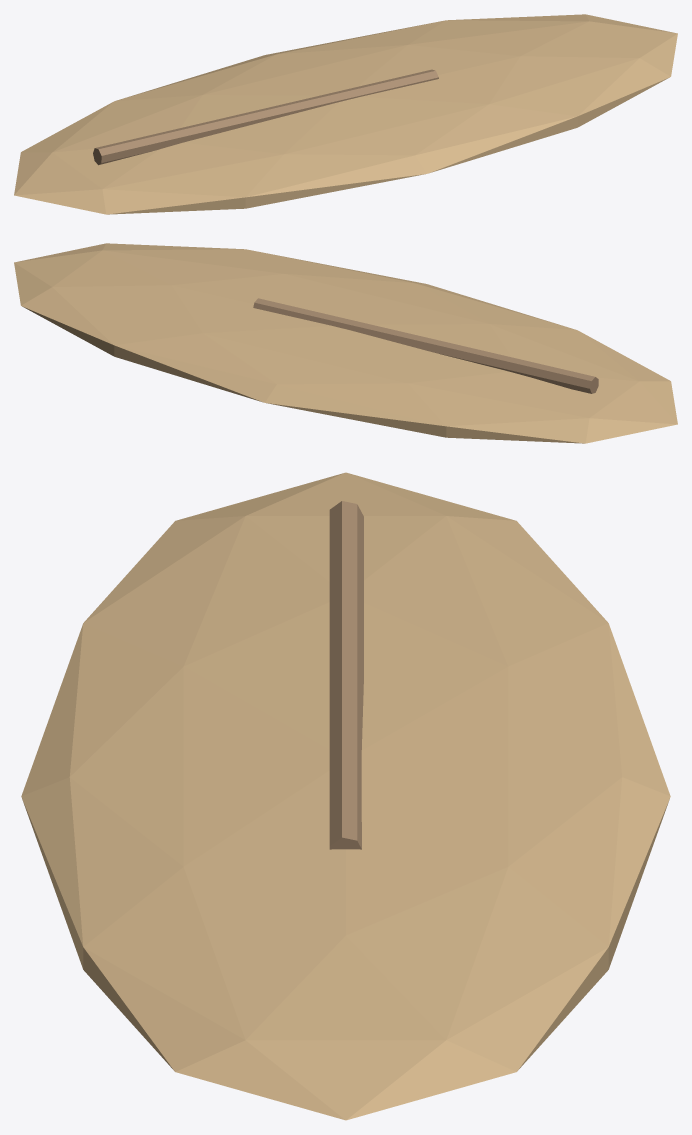
File: fallen_leaf.glb
The picture shows the model from 3 angles, top to bottom: view 1: azimuth 30°, elevation 25°; view 2: azimuth 150°, elevation 25°; view 3: azimuth 270°, elevation 25°; orthographic projection. The views are drawn at different scales.
Visible parts, largest first — view 1: FallenLeaf, Stem; view 2: FallenLeaf, Stem; view 3: FallenLeaf, Stem.
Part boxes in pixels (bbox=[...]): FallenLeaf: bbox=[14, 14, 677, 214]; Stem: bbox=[93, 69, 438, 165]; FallenLeaf: bbox=[14, 243, 677, 443]; Stem: bbox=[253, 298, 598, 393]; FallenLeaf: bbox=[21, 472, 670, 1120]; Stem: bbox=[329, 501, 363, 849].
Bounding box in the file's own units: 1.87 × 0.1209 × 0.792.
